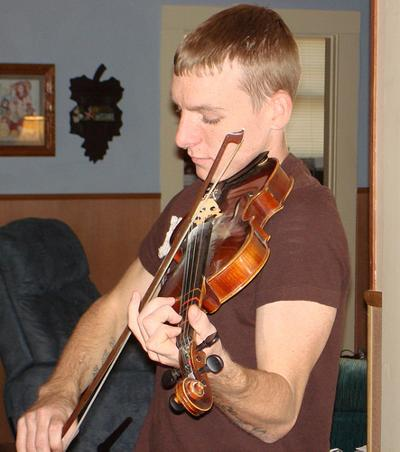person: (14, 5, 351, 452)
